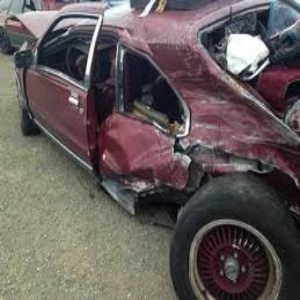door: (71, 122, 182, 197)
